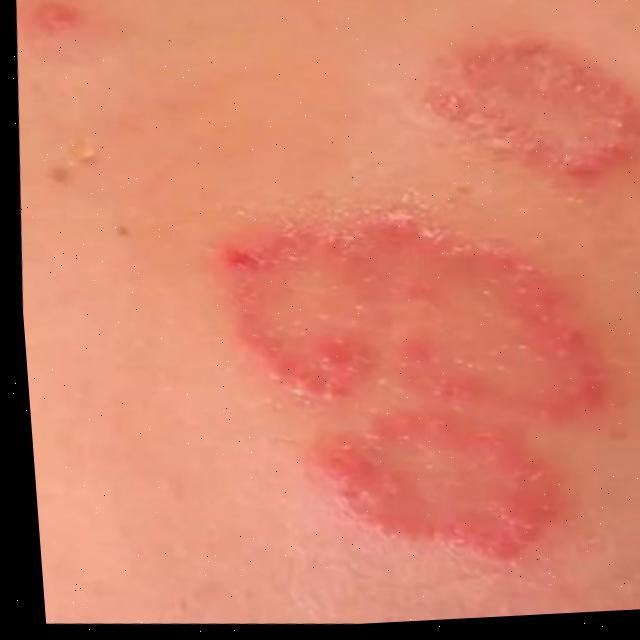Eczema: (186, 0, 640, 592)
